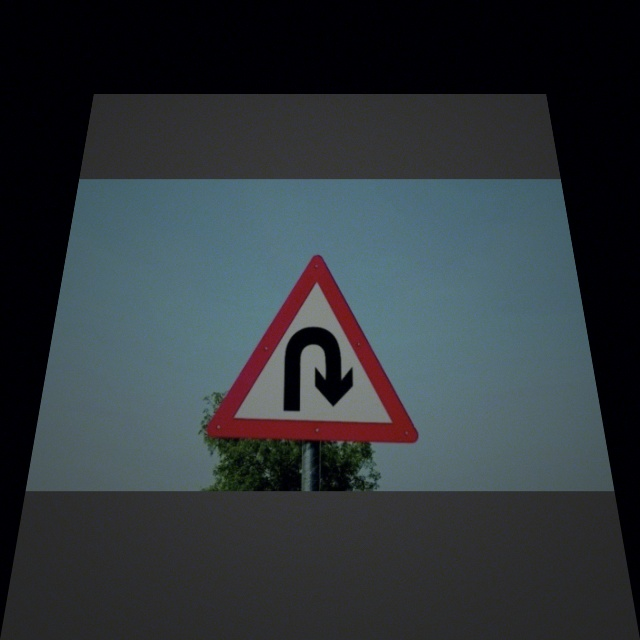Right_Hair_Pin_Bend: (212, 254, 423, 441)
